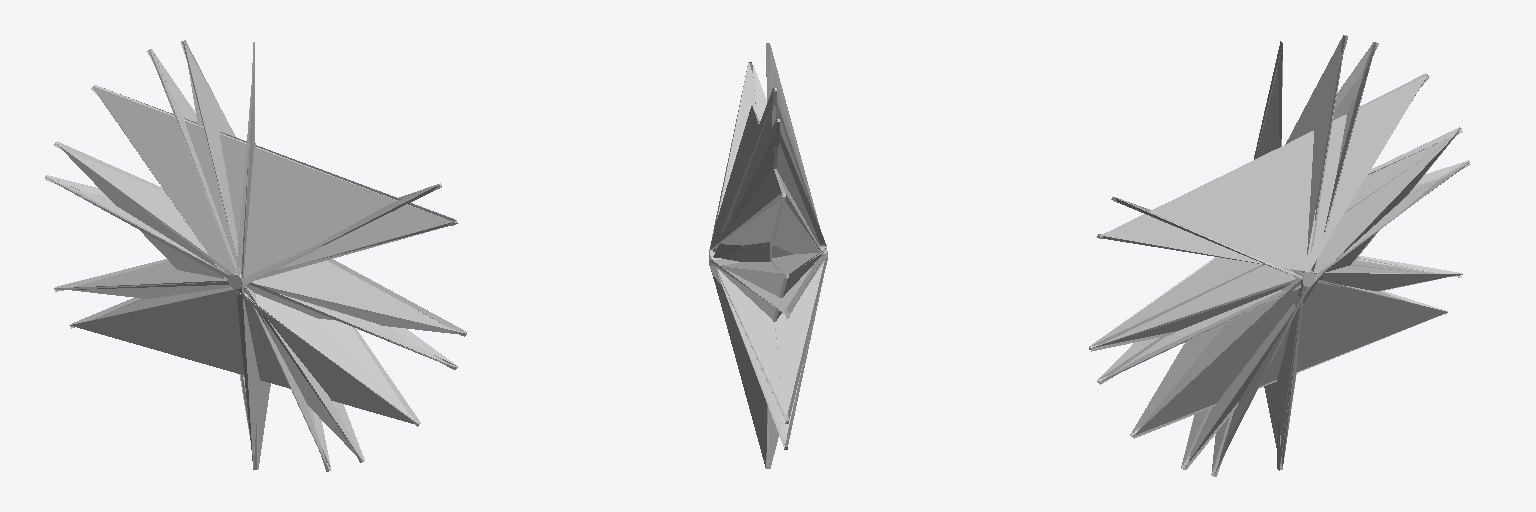
File: Ferris wheel.obj
The picture shows the model from 3 angles: view 1: azimuth 30°, elevation 25°; view 2: azimuth 150°, elevation 25°; view 3: azimuth 270°, elevation 25°; orthographic projection.
Visible parts, largest first — view 1: Cylinder004; view 2: Cylinder004; view 3: Cylinder004.
Boxes of the visible parts, box(x1,y1,x2,y2) form: Cylinder004: box(45, 40, 466, 471); Cylinder004: box(709, 43, 827, 468); Cylinder004: box(1089, 35, 1470, 476).
Bounding box in the file's own units: 137926 × 240911 × 195782.